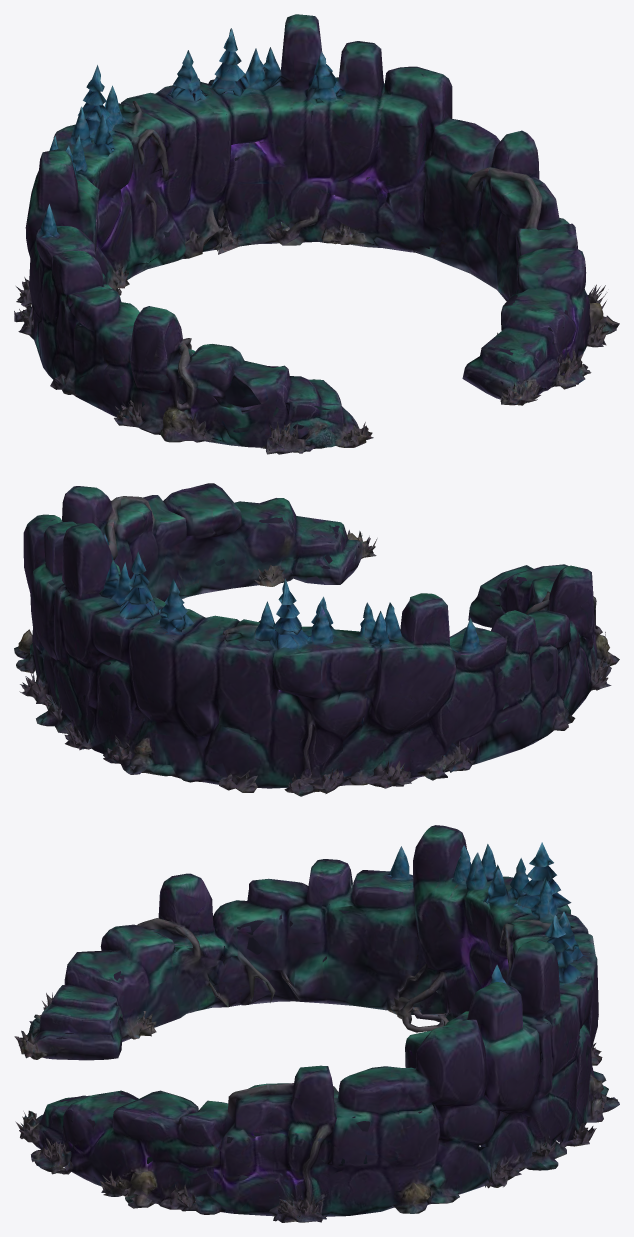
File: pit_wall_baron.glb
The picture shows the model from 3 angles, top to bottom: view 1: azimuth 30°, elevation 25°; view 2: azimuth 150°, elevation 25°; view 3: azimuth 270°, elevation 25°; orthographic projection. The views are drawn at different scales.
Bounding box in the file's own units: 1.89 × 0.7056 × 1.86.
1 material, 1 textured.
